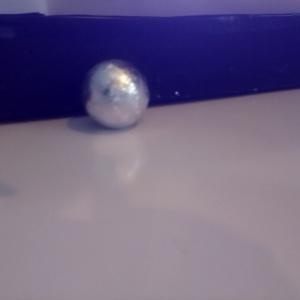zone: (1, 12, 300, 125)
